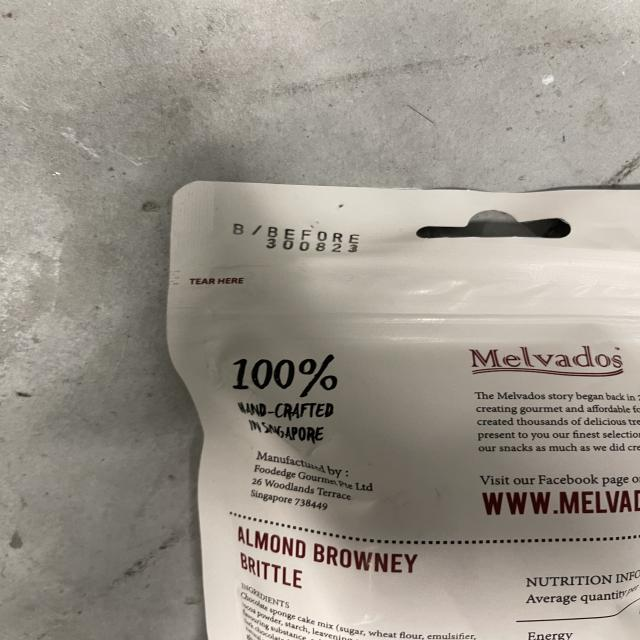object_name: (192, 193, 635, 640)
